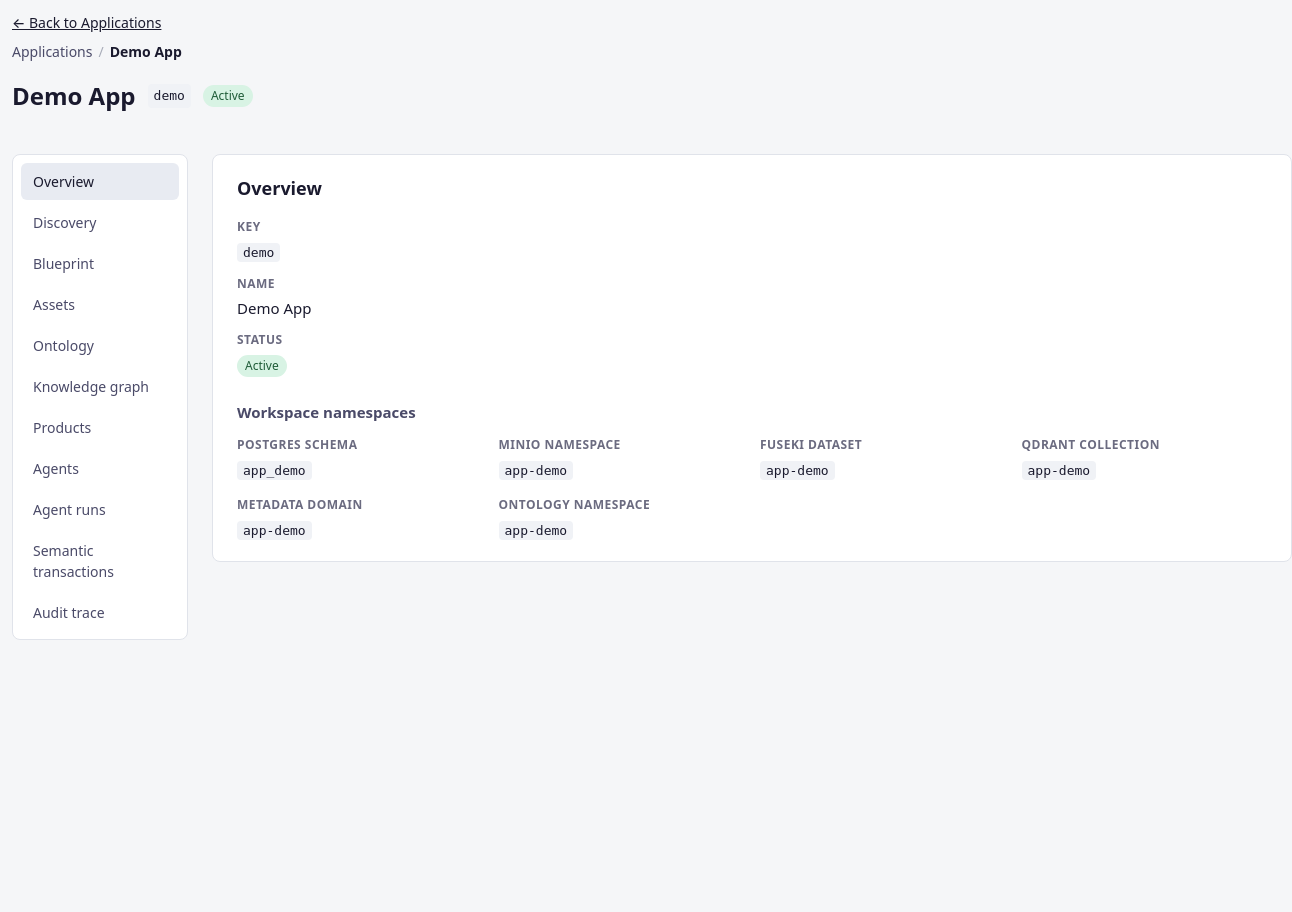
ApplicationDetailPage › navigates to assets list
Expected: the heading "Demo App" is shown, [12,78,136,114]
Step 1. Click the link "Assets" → [54, 304], box [33,295,75,314]
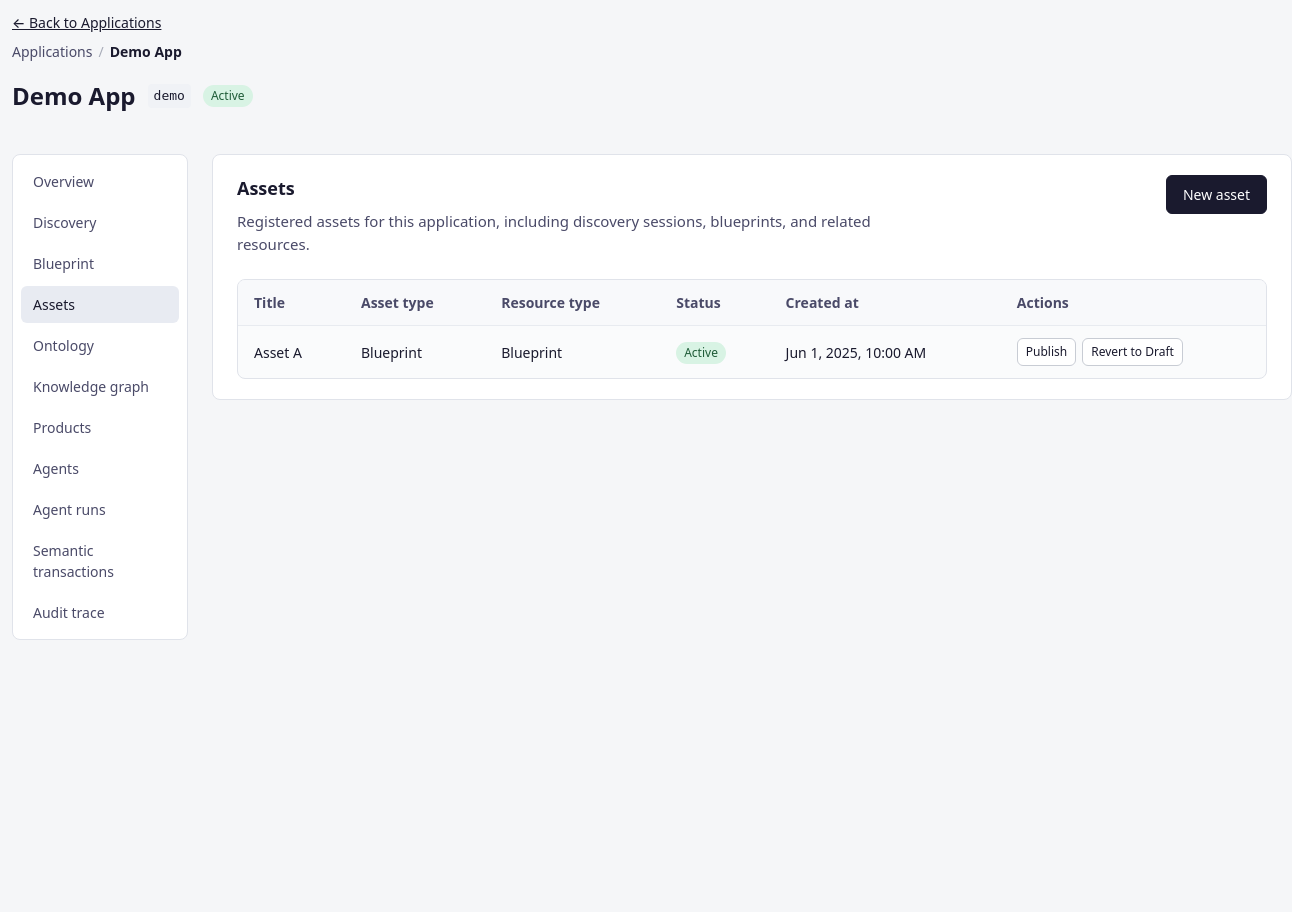
Expected: the text "Asset A" is shown, [238,326,345,378]
Expected: the heading "Assets" is shown, [237,176,295,200]
